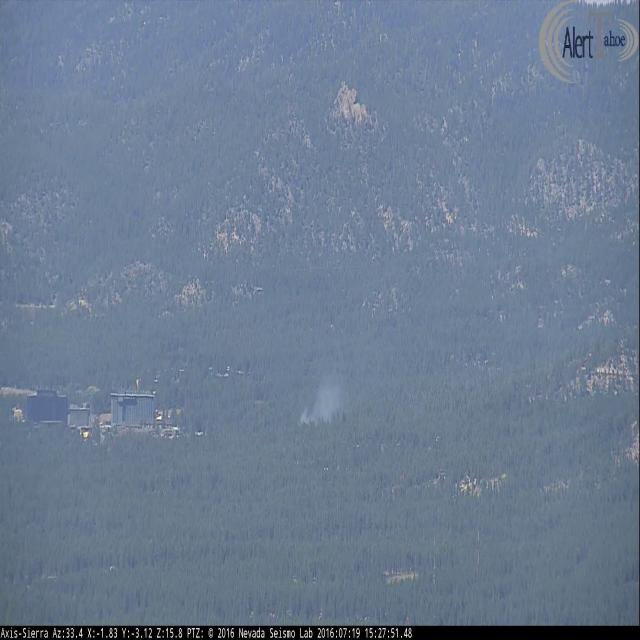smoke: (297, 364, 360, 426)
